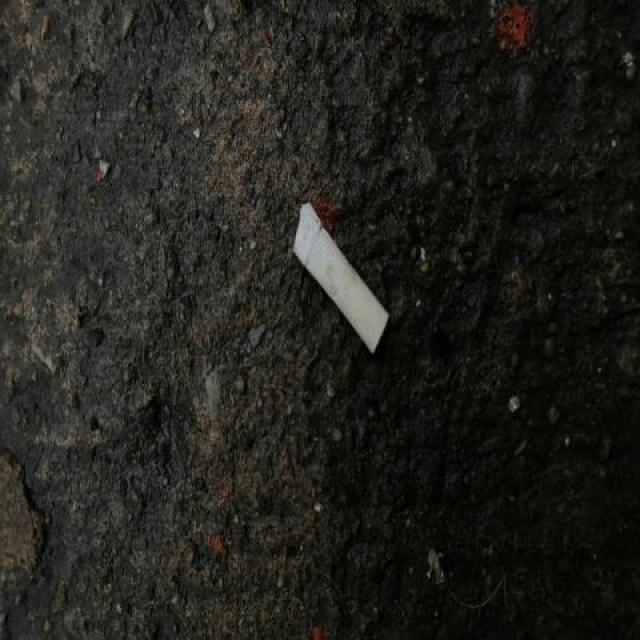non-organic waste: (291, 197, 393, 359)
